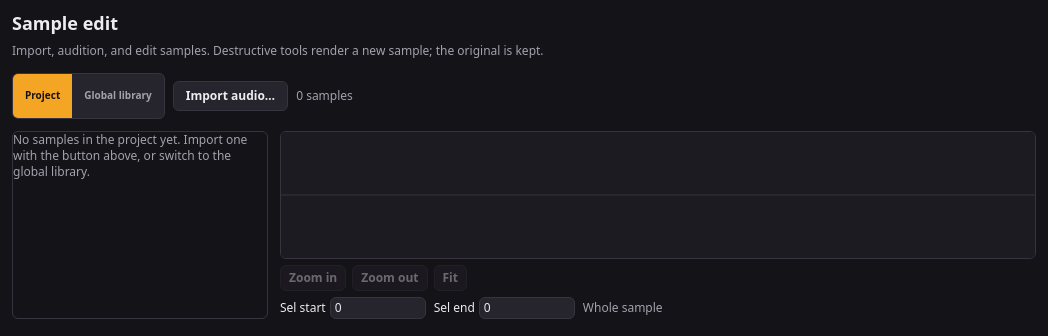
Test case: SampleEditPanel library location (spec §8.5.7, §9.8) › switches the location through the same store the Browser folder tree drives
What coordinates should you click on to do the following:
click the radio button labelled "Global library"
I would click on:
 (118, 96)
Its box is 72,74 -> 164,118.
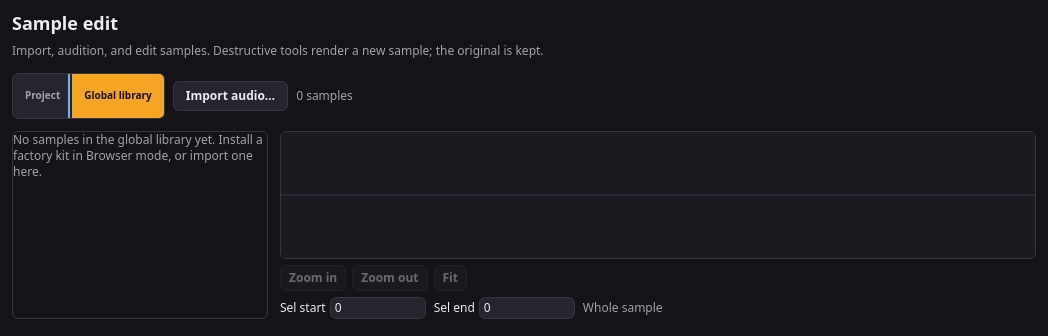
Check: the list named "Global library samples" is shown, box 12,130 -> 268,318
